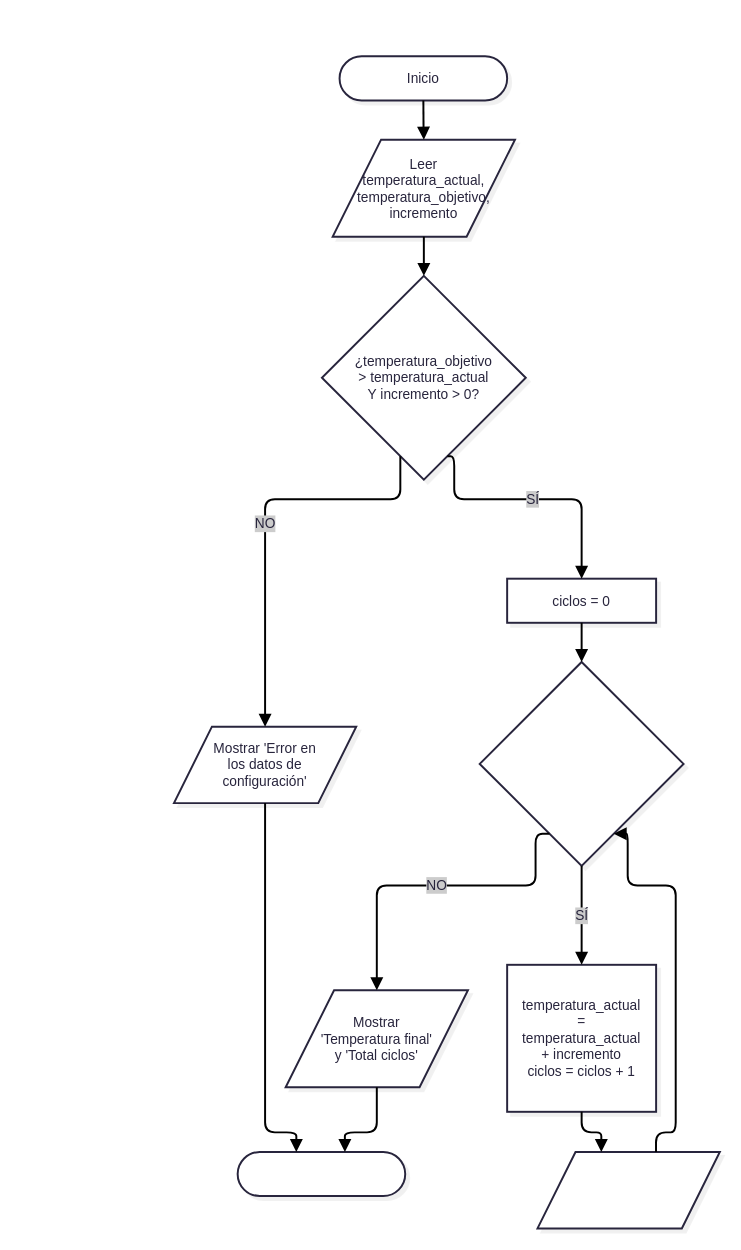
The diagram is 741 pixels wide and 1250 high, and some of its shapes have lost their labels. Each missing label, with the centre of its shape:
Fin: pixel 323 1175
Mostrar temperatura_actual, ciclos: pixel 630 1192
¿temperatura_actual < temperatura_objetivo?: pixel 583 765
